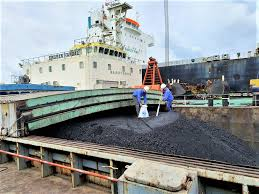tau_dansu: (6, 47, 259, 172)
